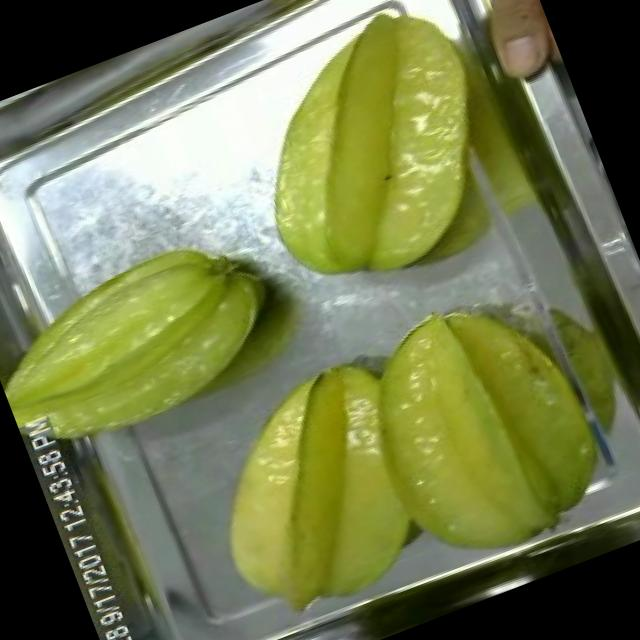fruit: (164, 310, 524, 640), (202, 0, 543, 323), (323, 254, 640, 590), (0, 203, 318, 479)
